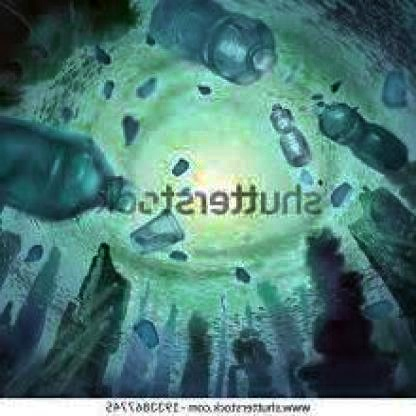pbottle: (2, 116, 128, 224), (138, 2, 284, 85), (314, 86, 412, 176), (263, 98, 312, 171), (121, 207, 183, 256)
